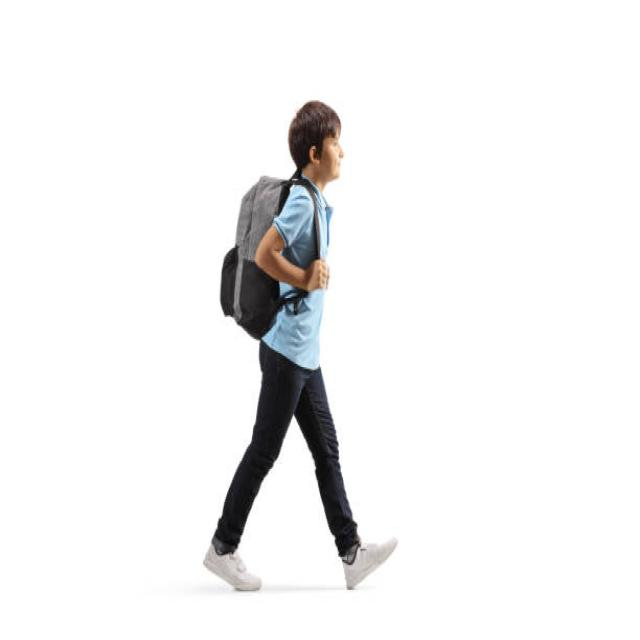Person: (204, 98, 396, 592)
